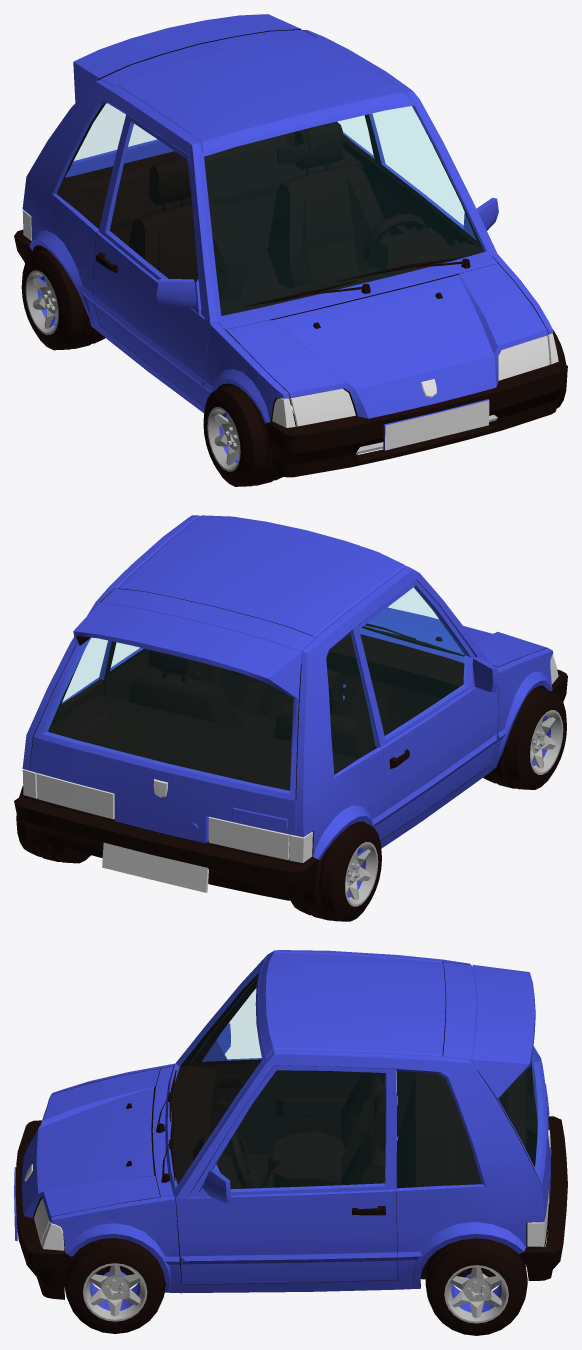
The model's file is CarBlue.fbx.
3 renders of one model, top to bottom at view 1: azimuth 30°, elevation 25°; view 2: azimuth 150°, elevation 25°; view 3: azimuth 270°, elevation 25°, orthographic. The views are drawn at different scales.
Visible parts, largest first — view 1: Body; view 2: Body; view 3: Body.
Part boxes in pixels (left/top/right/bottom): Body: left=14, top=14, right=567, bottom=486; Body: left=14, top=515, right=567, bottom=921; Body: left=14, top=950, right=567, bottom=1335.
Bounding box in the file's own units: 114 × 88.87 × 165.
